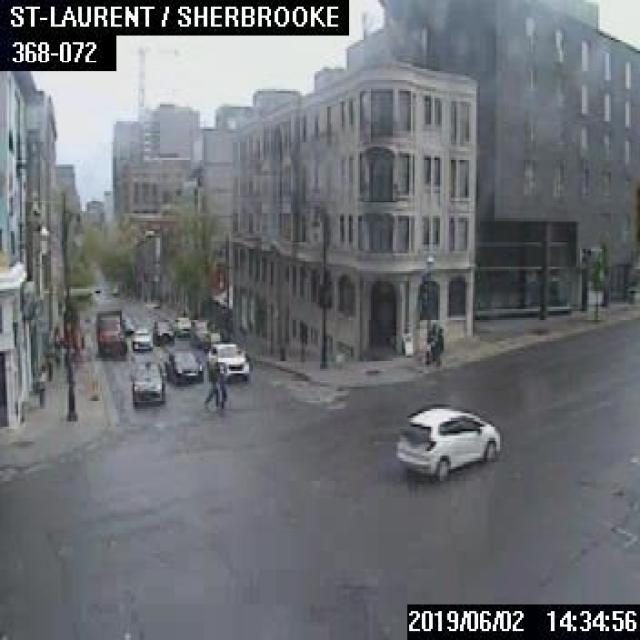pedestrian: (200, 344, 217, 409), (218, 362, 225, 408), (434, 325, 442, 364)
vehicle: (391, 402, 502, 480), (129, 359, 164, 403), (207, 341, 247, 378), (164, 349, 202, 383), (94, 308, 120, 354), (188, 318, 211, 344), (151, 318, 173, 343), (130, 326, 150, 348), (203, 330, 221, 348), (173, 316, 190, 335), (121, 315, 137, 332)
